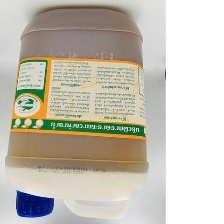cleaning_solution: (4, 4, 147, 221)
